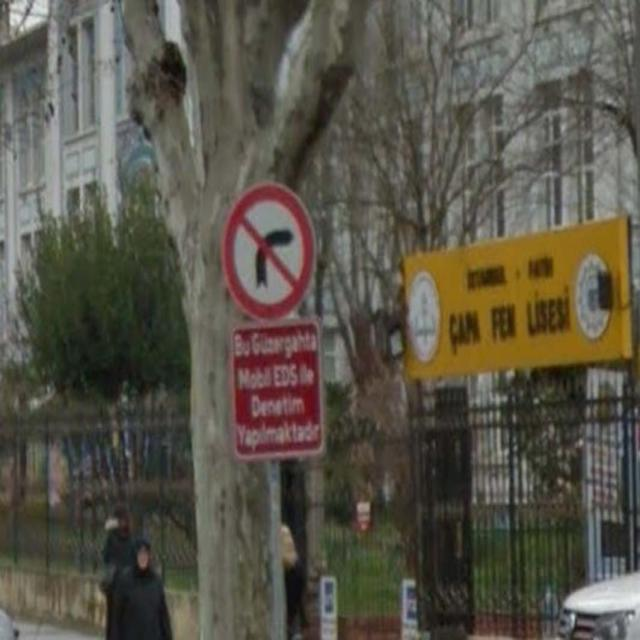sagadonulmez: (224, 183, 316, 318)
